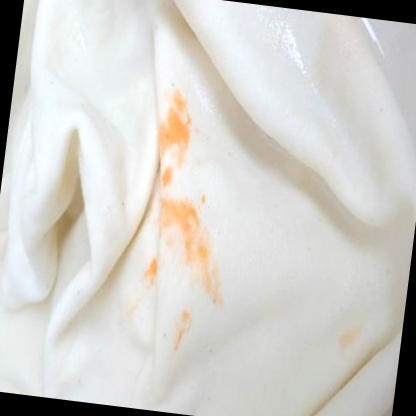kimchi: (143, 182, 238, 305), (136, 82, 210, 185), (160, 302, 201, 357), (130, 254, 162, 322), (327, 314, 364, 360)
